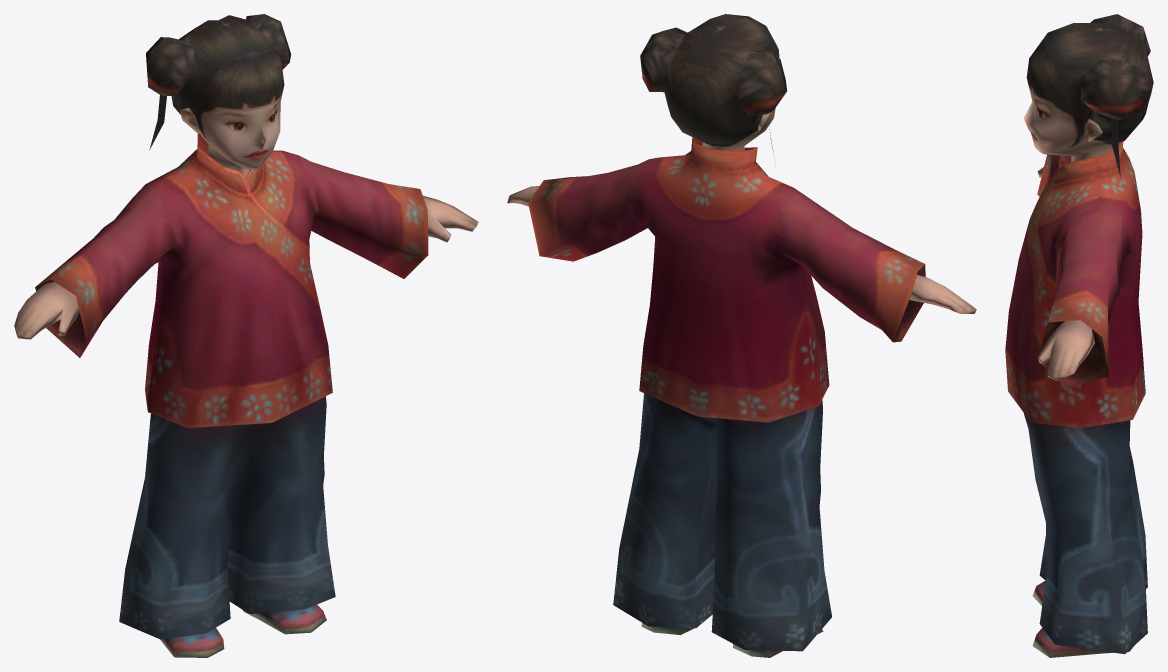
Rendered from girl child.fbx.
The picture shows the model from 3 angles, left to right: view 1: azimuth 30°, elevation 25°; view 2: azimuth 150°, elevation 25°; view 3: azimuth 270°, elevation 25°; orthographic projection.
Parts seen in each view (by area): view 1: girl_child1; view 2: girl_child1; view 3: girl_child1.
Boxes of the visible parts, x1,y1,x2,y2 form: girl_child1: (14,14,478,657); girl_child1: (507,14,976,657); girl_child1: (1005,14,1153,657).
Bounding box in the file's own units: 81 × 100 × 22.7.
Materials: 1 (1 with a texture image).
